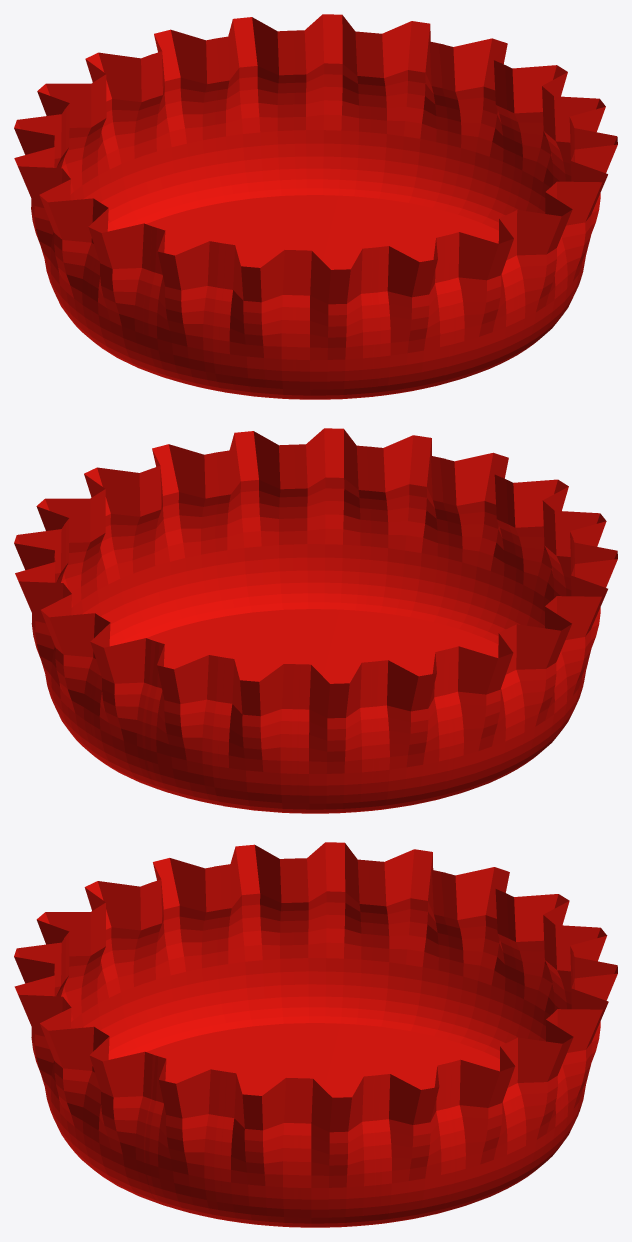
File: Bottle Cap Squared Shape.fbx
The picture shows the model from 3 angles, top to bottom: view 1: azimuth 30°, elevation 25°; view 2: azimuth 150°, elevation 25°; view 3: azimuth 270°, elevation 25°; orthographic projection.
Parts seen in each view (by area): view 1: Cap; view 2: Cap; view 3: Cap.
Boxes of the visible parts, bbox=[...] form: Cap: bbox=[14, 14, 617, 399]; Cap: bbox=[14, 428, 617, 813]; Cap: bbox=[14, 842, 617, 1227].
Bounding box in the file's own units: 357 × 102 × 357.
